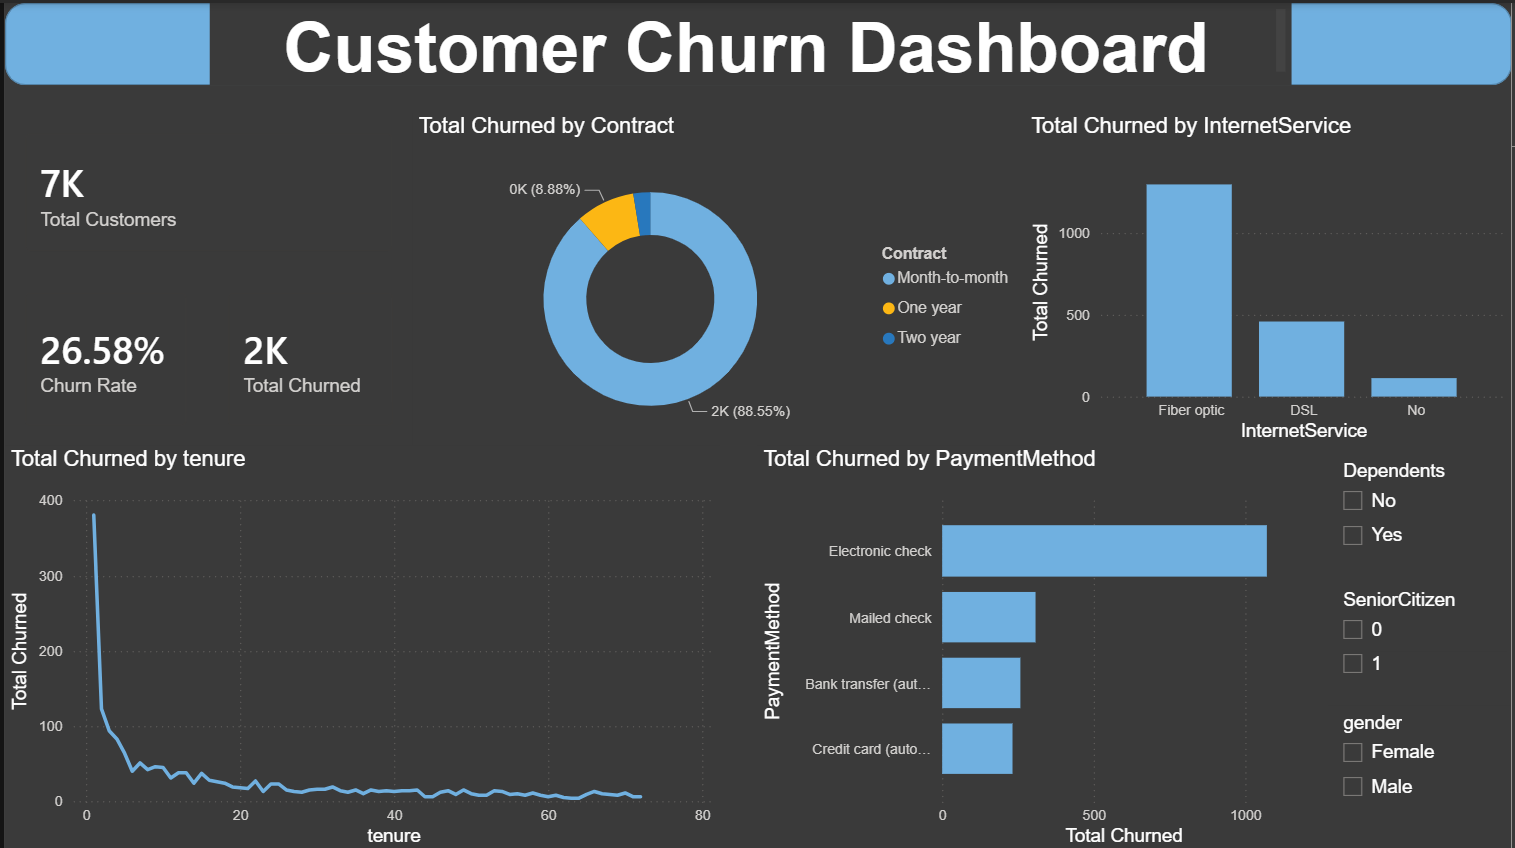

Layout of this report page (visuals, bound fields, positions):
{"tool":"powerbi","page":{"name":"Page 1","canvas":[1280,720],"ordinal":0},"visuals":[{"type":"cardVisual","fields":{"Data":["df_clean.Total Customers"]},"box":[0,92.9,346.9,134.7],"z":0},{"type":"cardVisual","fields":{"Data":["df_clean.Total Churned"]},"box":[171.9,229.2,175,147.1],"z":1000},{"type":"cardVisual","fields":{"Data":["df_clean.Churn Rate"]},"box":[0,229.2,171.9,147.1],"z":2000},{"type":"donutChart","fields":{"Category":["df_clean.Contract"],"Y":["df_clean.Total Churned"]},"box":[346.9,92.9,520.3,283.4],"z":3000},{"type":"clusteredBarChart","fields":{"Category":["df_clean.PaymentMethod"],"Y":["df_clean.Total Churned"]},"box":[639.6,376.3,484.7,343.8],"z":4000},{"type":"lineChart","fields":{"Category":["df_clean.tenure"],"Y":["df_clean.Total Churned"]},"box":[0,376.3,607,343.8],"z":5000},{"type":"clusteredColumnChart","fields":{"Category":["df_clean.InternetService"],"Y":["df_clean.Total Churned"]},"box":[867.2,92.9,413.5,283.4],"z":6000},{"type":"slicer","fields":{"Values":["df_clean.SeniorCitizen"]},"box":[1124.3,492.4,156.4,111.5],"z":7000},{"type":"slicer","fields":{"Values":["df_clean.Dependents"]},"box":[1124.3,384,156.4,108.4],"z":8000},{"type":"shape","box":[0,0,1279.8,69.9],"z":8500},{"type":"slicer","fields":{"Values":["df_clean.gender"]},"box":[1124.3,596.2,156.4,123.9],"z":9000},{"type":"textbox","box":[173.9,0,918.6,69.9],"z":11000}]}

Visuals, with their boxes in screenshot pixels (x1, y1, x2, y2), scaled from the page's 1280x720 canvas onto the 1515x848 screenshot:
cardVisual - df_clean.Total Customers: box(0, 109, 411, 268)
cardVisual - df_clean.Total Churned: box(203, 270, 411, 443)
cardVisual - df_clean.Churn Rate: box(0, 270, 203, 443)
donutChart - df_clean.Contract x df_clean.Total Churned: box(411, 109, 1026, 443)
clusteredBarChart - df_clean.PaymentMethod x df_clean.Total Churned: box(757, 443, 1331, 847)
lineChart - df_clean.tenure x df_clean.Total Churned: box(0, 443, 718, 847)
clusteredColumnChart - df_clean.InternetService x df_clean.Total Churned: box(1026, 109, 1514, 443)
slicer - df_clean.SeniorCitizen: box(1331, 580, 1514, 711)
slicer - df_clean.Dependents: box(1331, 452, 1514, 580)
shape: box(0, 0, 1514, 82)
slicer - df_clean.gender: box(1331, 702, 1514, 847)
textbox: box(206, 0, 1293, 82)
